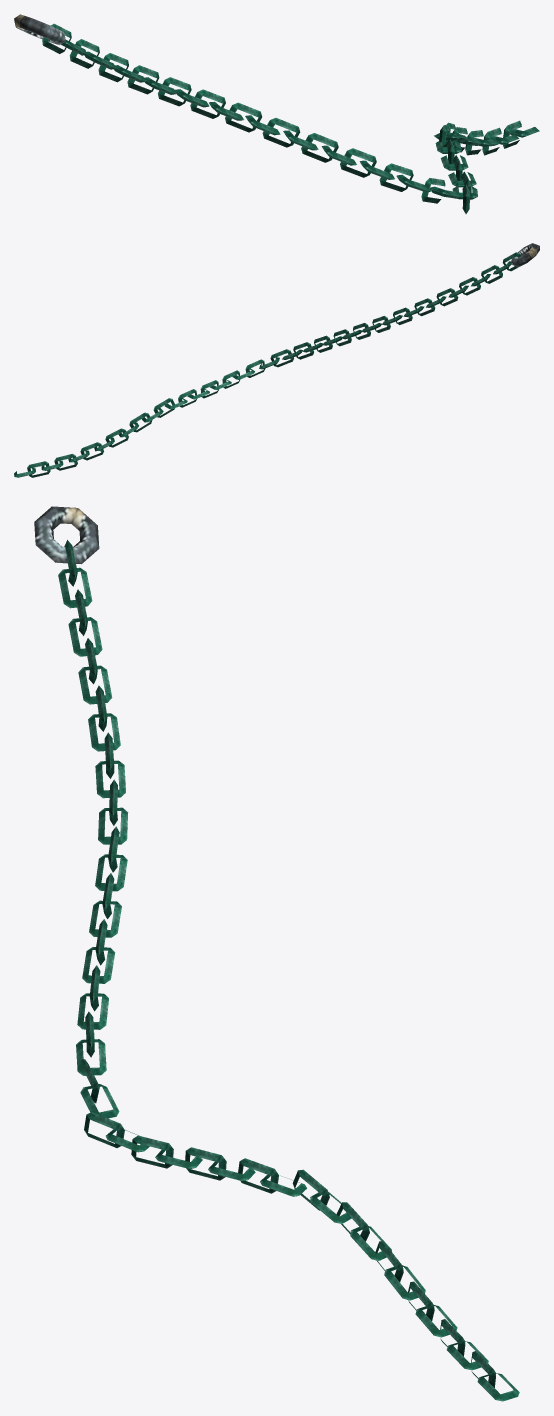
Rendered from 5st_chain_007.glb.
3 views of the same model, one above another, from view 1: azimuth 30°, elevation 25°; view 2: azimuth 150°, elevation 25°; view 3: azimuth 270°, elevation 25° (orthographic). The views are drawn at different scales.
Visible parts, largest first — view 1: chain007; view 2: chain007; view 3: chain007.
Part boxes in pixels (<box>): chain007: <box>14,14,539,213</box>; chain007: <box>14,243,539,477</box>; chain007: <box>34,506,519,1401</box>.
Bounding box in the file's own units: 24.18 × 13.93 × 12.25.
2 materials, 2 textured.
